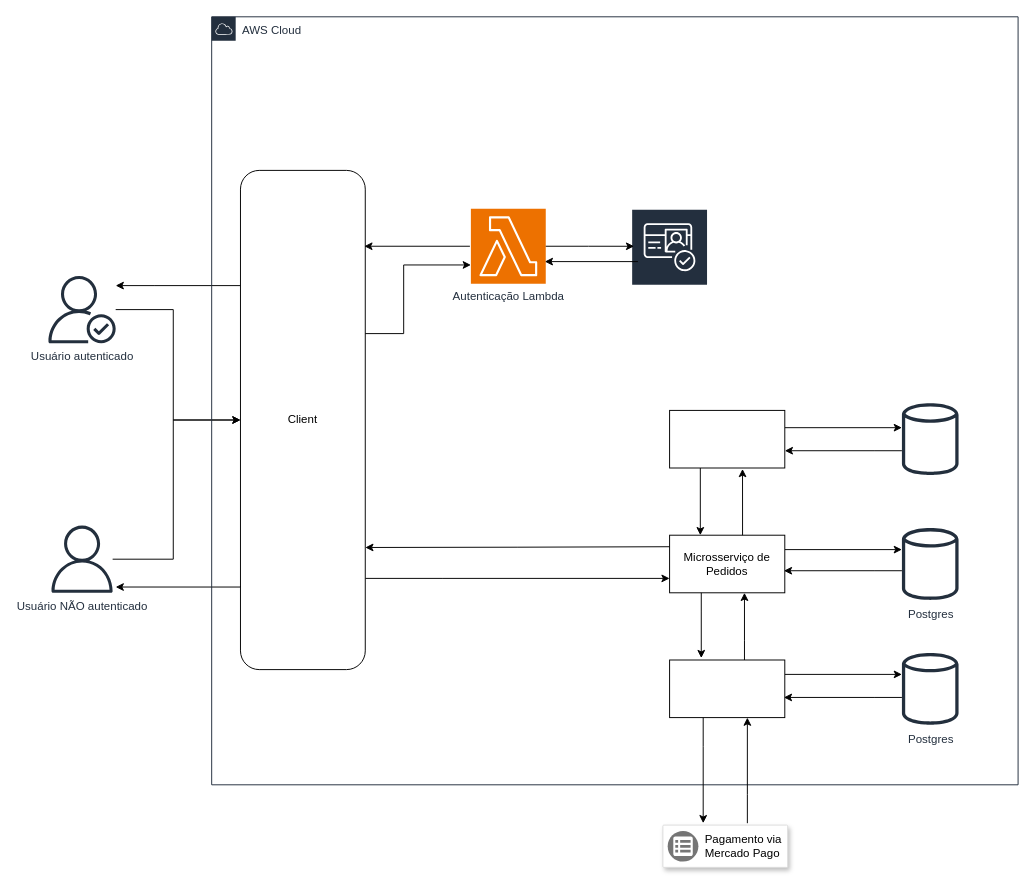
The diagram is 1035 pixels wide and 891 high, and some of its shapes have lost their labels. Here are the shapes that lost their labels. From the top down, the centre of each, then its label:
the point at 669,261: Amazon Cognito
the point at 727,438: Microsserviço de Produção
the point at 929,438: MongoDB
the point at 727,688: Microsserviço de Pagamento
